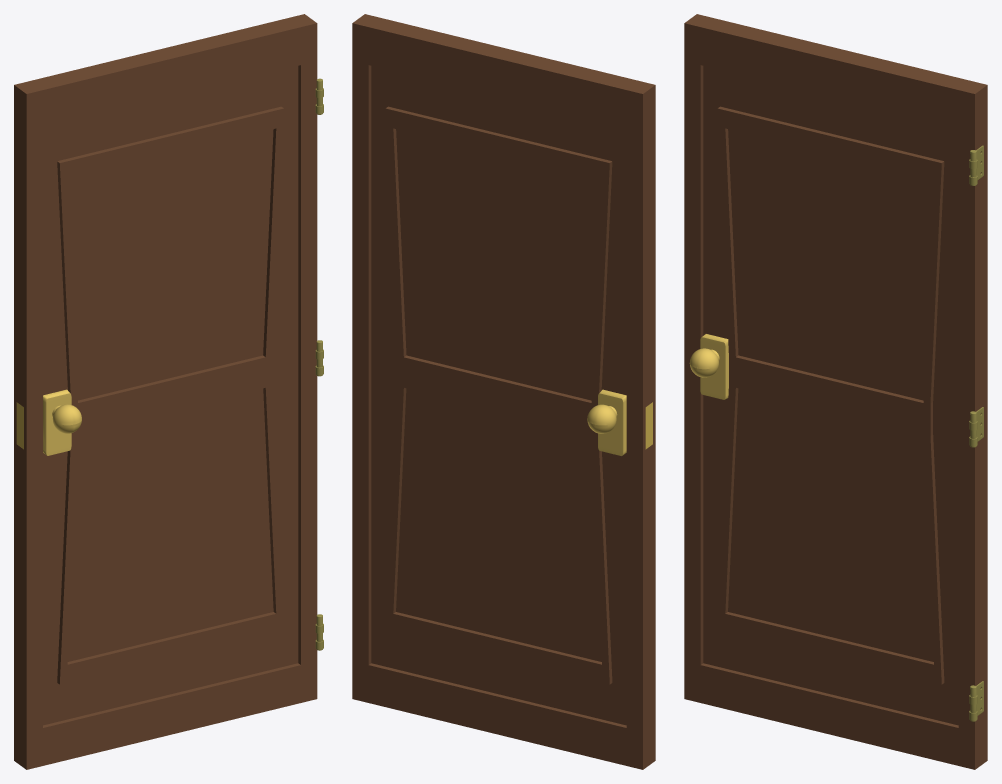
Rendered from InsideDoor.fbx.
3 renders of one model, left to right at view 1: azimuth 30°, elevation 25°; view 2: azimuth 150°, elevation 25°; view 3: azimuth 330°, elevation 25°, orthographic.
Visible parts, largest first — view 1: Cube.001; view 2: Cube.001; view 3: Cube.001.
Part boxes in pixels (<box>): Cube.001: <box>14,14,317,769</box>; Cube.001: <box>352,14,655,769</box>; Cube.001: <box>684,14,987,769</box>.
Size of the model in its own units: 92.75 by 203 by 26.28.
